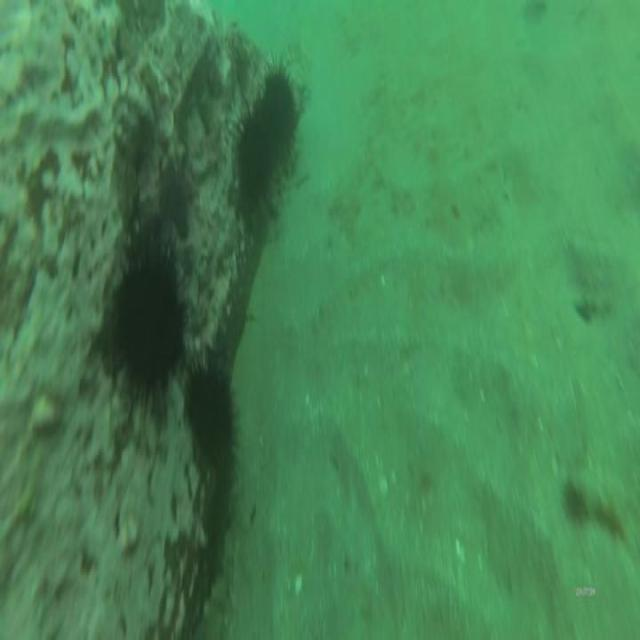echinus: (104, 239, 186, 398), (180, 365, 241, 487), (234, 114, 281, 207), (258, 64, 301, 160)
